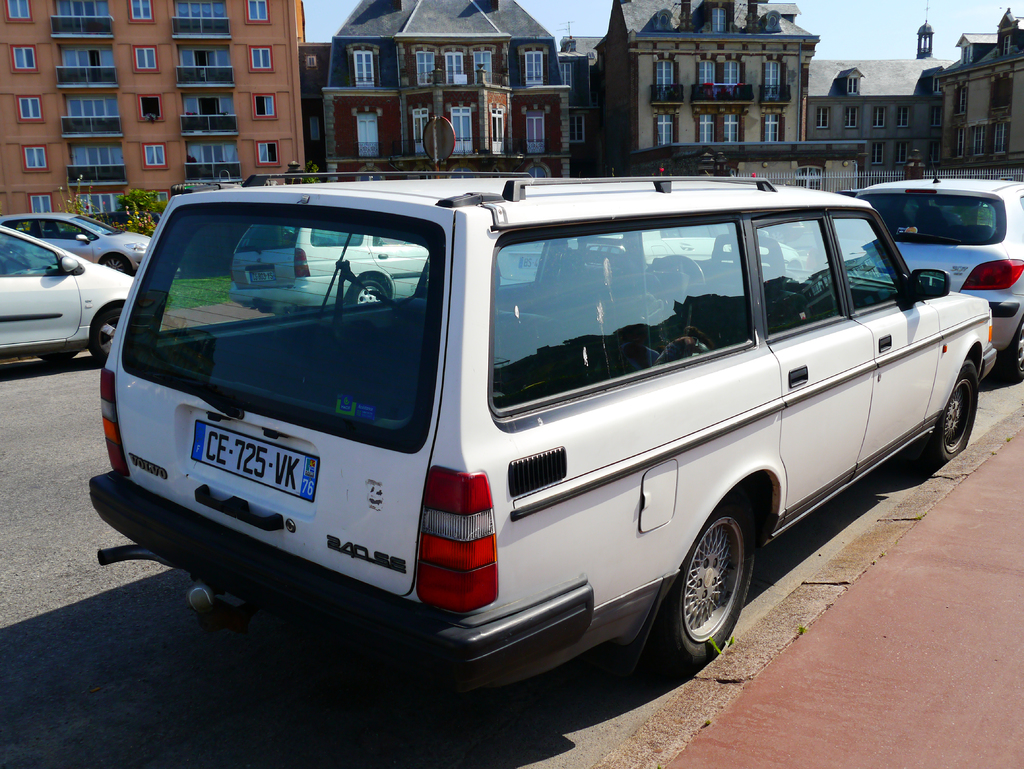license plate: (194, 415, 327, 467)
